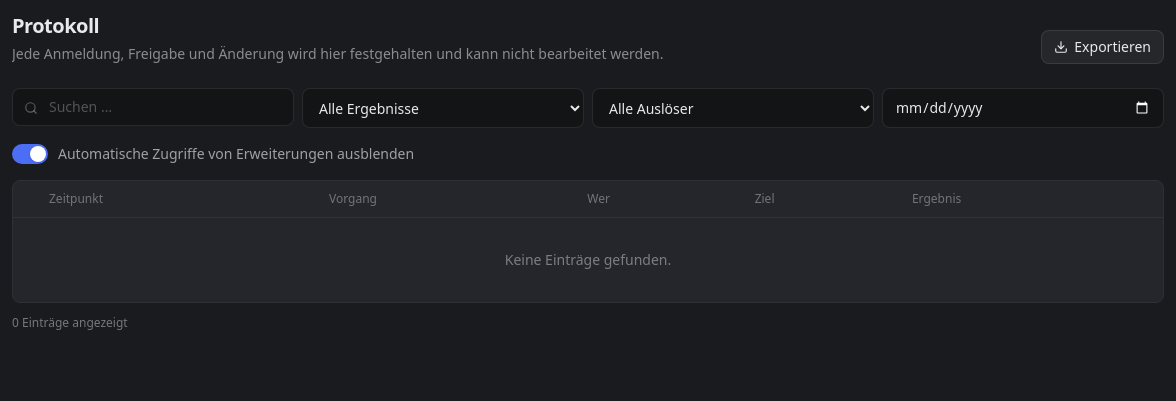
Test: Protokoll exportieren bei abgelaufener Anmeldung › anderer Fehler: Text des Servers statt HTTP <Status>, ohne Erneuerung
Check: the text "Keine Einträge gefunden." is shown, box top-left (505, 250), bottom-right (671, 269)
Click the button "Exportieren".
click(1103, 47)  # box top-left (1041, 30), bottom-right (1164, 64)
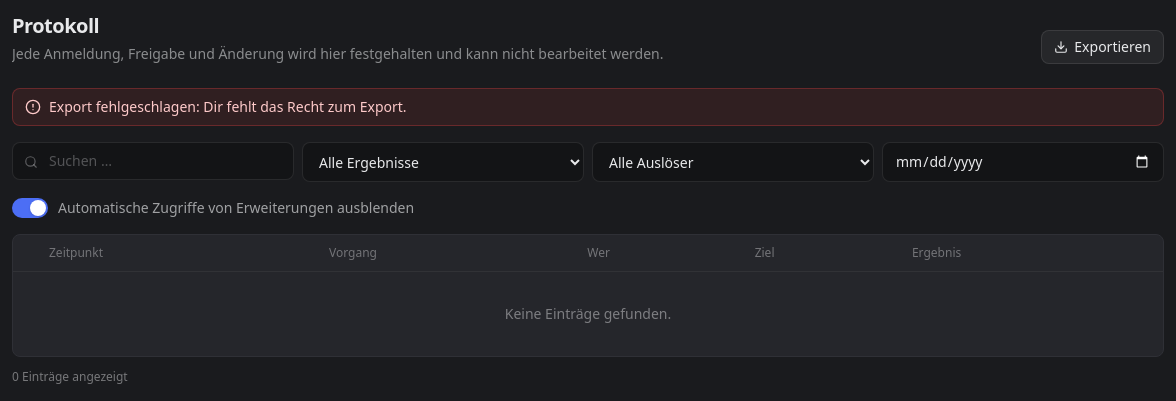
Check: the text "Export fehlgeschlagen: Dir fehlt das Recht zum Export." is shown, box top-left (12, 88), bottom-right (1164, 126)
